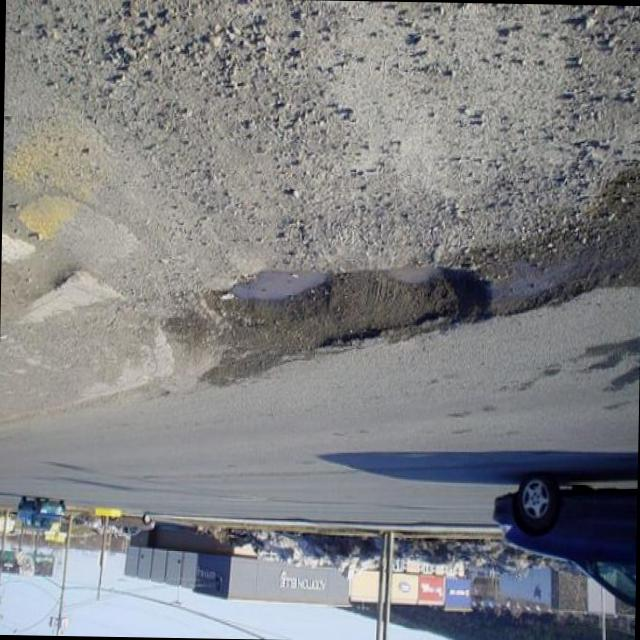pothole: (333, 260, 489, 350), (218, 260, 342, 324)
